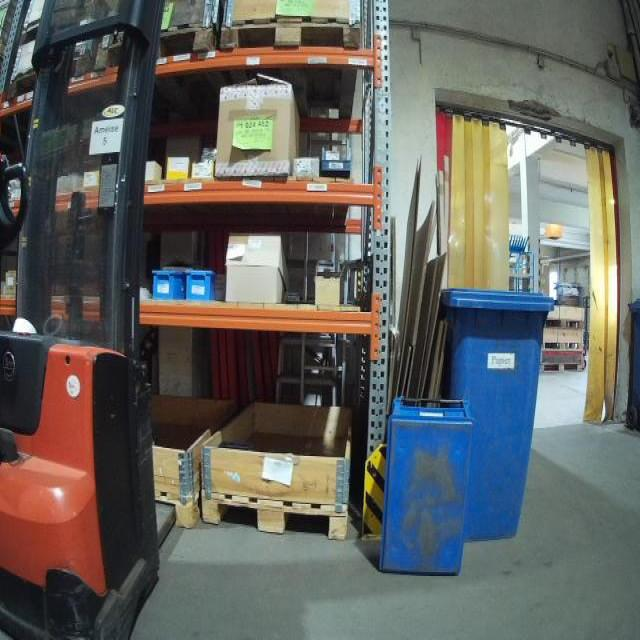pallet: (200, 490, 349, 543), (93, 18, 215, 74), (219, 17, 362, 53), (160, 498, 201, 528), (542, 340, 583, 354), (540, 361, 582, 374), (543, 318, 584, 331)
pallet_truck: (2, 0, 180, 639)
small_load_carrier: (178, 268, 214, 298), (147, 269, 177, 299)
